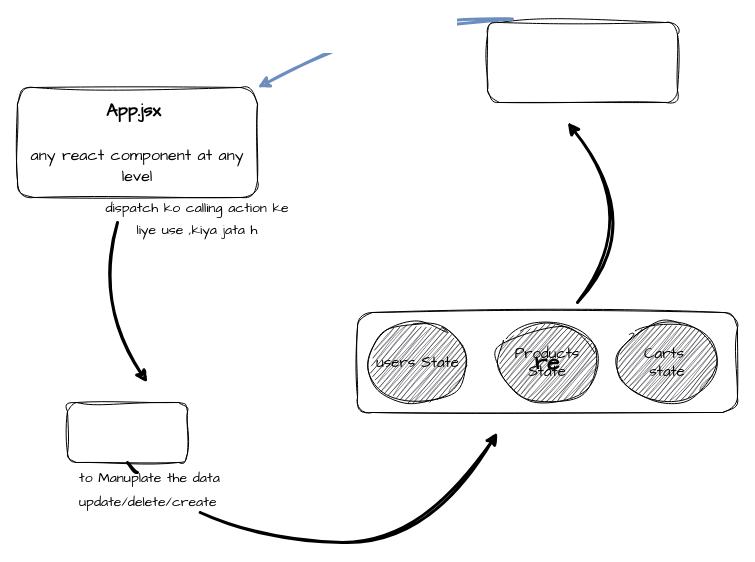
Image size: 755x562. Some labels were removed from this diagram. The shapes that lost their labels are listed below. From the top down, each one's centre as x and y in pixels, then its label:
At [582,62]: "Store Store The Globall state".
At [127,432]: "actions".
